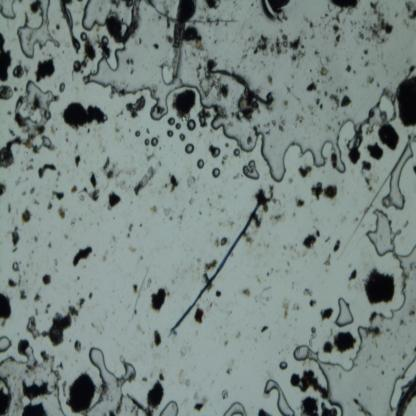Air bubble: (329, 244, 416, 413), (211, 112, 360, 182), (82, 47, 173, 123), (0, 348, 64, 414), (86, 347, 143, 416), (292, 343, 364, 381), (17, 0, 60, 60), (381, 143, 415, 210), (15, 81, 53, 135), (366, 207, 402, 258), (388, 354, 416, 410), (263, 378, 296, 415), (80, 1, 112, 30), (334, 295, 356, 329), (243, 159, 261, 182), (159, 63, 176, 87), (0, 0, 17, 21), (160, 398, 178, 416), (226, 400, 246, 415), (0, 334, 13, 354), (278, 358, 288, 372), (186, 118, 196, 131), (196, 158, 205, 172), (100, 34, 110, 46), (184, 143, 194, 155), (212, 168, 221, 180), (166, 128, 175, 139), (134, 128, 141, 142), (58, 82, 66, 94), (212, 146, 220, 158), (79, 31, 87, 42), (167, 118, 176, 127), (232, 147, 240, 157), (150, 138, 158, 148), (174, 122, 182, 131), (179, 132, 186, 142), (144, 140, 150, 148)
Background material: (23, 305, 80, 347), (0, 132, 55, 167), (252, 32, 308, 66), (172, 1, 199, 70), (197, 60, 229, 106), (65, 369, 96, 415), (288, 370, 330, 402), (18, 378, 54, 415), (362, 268, 397, 306), (62, 102, 109, 130), (364, 87, 399, 123), (366, 1, 394, 45), (134, 160, 162, 198), (396, 76, 416, 127), (70, 171, 100, 204), (143, 372, 166, 414), (322, 330, 358, 355), (171, 90, 200, 120), (300, 394, 339, 414), (147, 284, 170, 315), (72, 44, 97, 71), (100, 156, 124, 184), (260, 0, 292, 21), (310, 182, 340, 204), (0, 33, 13, 83), (255, 182, 277, 211), (183, 26, 206, 53), (377, 123, 399, 151), (34, 56, 56, 83), (329, 12, 344, 48), (124, 94, 147, 117), (0, 293, 15, 328), (0, 375, 13, 415), (327, 92, 351, 113), (200, 16, 236, 29), (301, 230, 321, 252), (104, 188, 122, 212), (11, 62, 30, 82), (124, 392, 141, 414), (361, 324, 384, 340), (165, 173, 181, 196), (262, 120, 287, 134), (402, 0, 416, 25), (327, 0, 360, 10), (367, 141, 384, 160), (350, 18, 366, 38), (197, 108, 212, 129), (150, 327, 163, 351), (36, 162, 58, 176), (353, 398, 372, 414), (0, 83, 14, 104), (212, 235, 231, 250), (10, 225, 20, 253), (347, 146, 361, 166), (306, 12, 315, 43), (307, 326, 320, 347), (319, 306, 334, 324), (315, 64, 331, 80), (268, 212, 286, 226), (201, 258, 218, 272), (192, 395, 207, 410), (297, 163, 312, 178), (366, 174, 378, 192), (205, 0, 222, 12), (280, 300, 290, 320), (193, 307, 204, 325), (20, 209, 33, 224), (185, 174, 197, 190), (57, 204, 69, 220), (360, 160, 373, 174), (123, 58, 136, 71), (51, 188, 66, 199), (254, 214, 263, 232), (73, 153, 83, 169), (243, 286, 253, 302), (72, 340, 82, 355), (348, 269, 358, 284), (332, 239, 341, 255), (365, 74, 375, 88), (11, 260, 21, 274), (314, 97, 324, 111), (220, 386, 230, 400), (0, 179, 7, 198), (306, 81, 318, 92), (41, 273, 52, 285), (202, 273, 212, 286), (245, 231, 255, 244), (266, 70, 275, 84), (213, 286, 222, 300), (130, 282, 140, 294), (6, 276, 16, 288), (20, 288, 29, 301), (143, 152, 157, 160), (126, 222, 133, 238), (294, 198, 305, 208), (302, 288, 312, 298), (308, 298, 318, 308), (345, 63, 354, 74), (226, 362, 233, 376), (45, 199, 53, 211), (222, 153, 229, 165), (32, 292, 42, 300), (29, 186, 36, 196), (261, 325, 268, 334), (409, 309, 416, 318), (78, 297, 84, 306), (364, 46, 370, 55), (89, 291, 94, 301)
Cellulose filter fibre: (209, 68, 274, 108), (61, 1, 82, 54), (394, 376, 416, 415), (72, 249, 95, 267)
Cotton: (169, 204, 262, 336)
